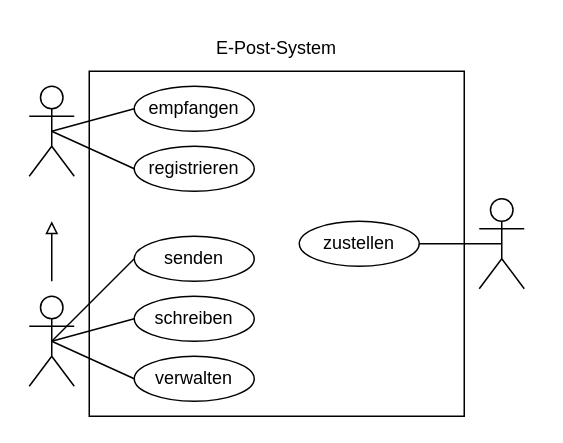
Image size: 563x443. Some labels were removed from this diagram. The shapes that lost their labels are listed below. From the top down, each one's box as (x1, y1, x2, y2) in pixels, then its label:
(28, 85, 74, 176): Nutzer
(478, 197, 524, 289): Zusteller
(28, 295, 74, 386): Kunde
